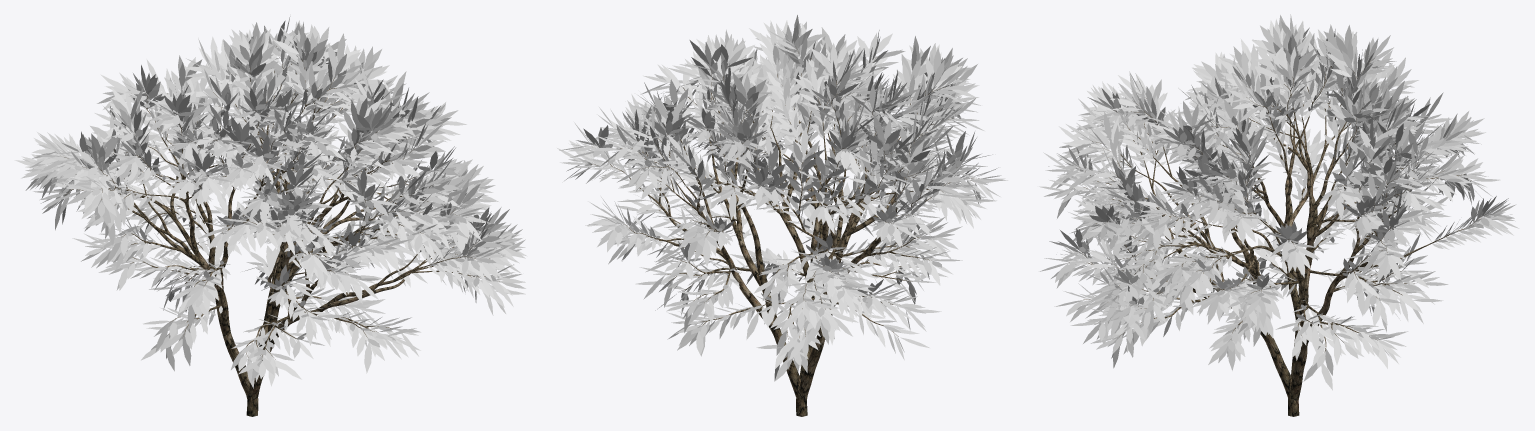
3 renders of one model, left to right at view 1: azimuth 30°, elevation 25°; view 2: azimuth 150°, elevation 25°; view 3: azimuth 270°, elevation 25°, orthographic.
Visible parts, largest first — view 1: leaves preview, tree preview; view 2: leaves preview, tree preview; view 3: leaves preview, tree preview.
Part boxes in pixels (x1,y1,x2,y2): leaves preview: [14, 16, 527, 388]; tree preview: [64, 46, 499, 416]; leaves preview: [557, 15, 1007, 381]; tree preview: [591, 51, 979, 416]; leaves preview: [1039, 14, 1519, 390]; tree preview: [1069, 61, 1484, 416].
Bounding box in the file's own units: 11.1 × 9.39 × 11.51.
Materials: 2 (1 with a texture image).
